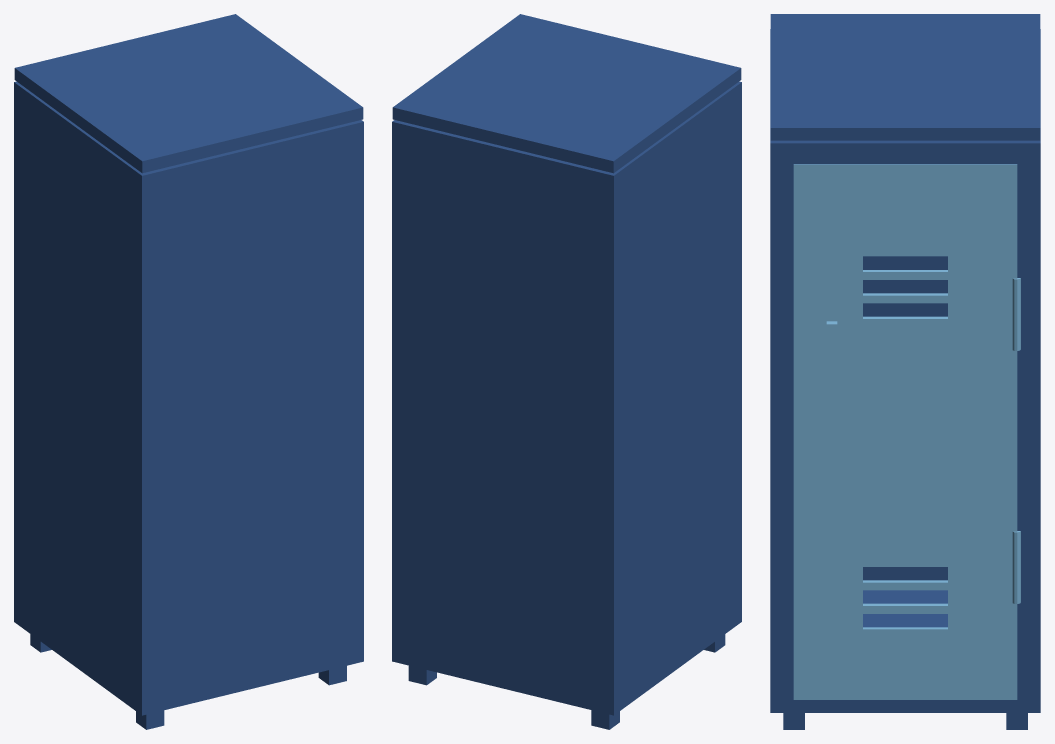
The model's file is locker_small.fbx.
3 renders of one model, left to right at view 1: azimuth 30°, elevation 25°; view 2: azimuth 150°, elevation 25°; view 3: azimuth 270°, elevation 25°, orthographic. The views are drawn at different scales.
Parts seen in each view (by area): view 1: Locker_Body; view 2: Locker_Body; view 3: Locker_Door, Locker_Body.
Part boxes in pixels (left/top/right/bottom): Locker_Body: left=14, top=14, right=363, bottom=729; Locker_Body: left=392, top=14, right=741, bottom=729; Locker_Door: left=793, top=164, right=1020, bottom=699; Locker_Body: left=770, top=14, right=1040, bottom=729.
Bounding box in the file's own units: 96.95 × 227 × 91.77.
